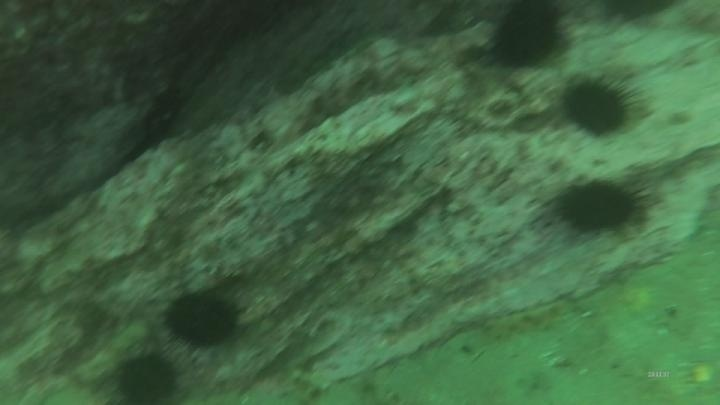echinus: (550, 173, 654, 240), (555, 69, 646, 142), (484, 1, 571, 73), (160, 285, 246, 356), (110, 347, 184, 405), (593, 1, 680, 30)
holothurian: (72, 315, 153, 388), (474, 296, 574, 345)
